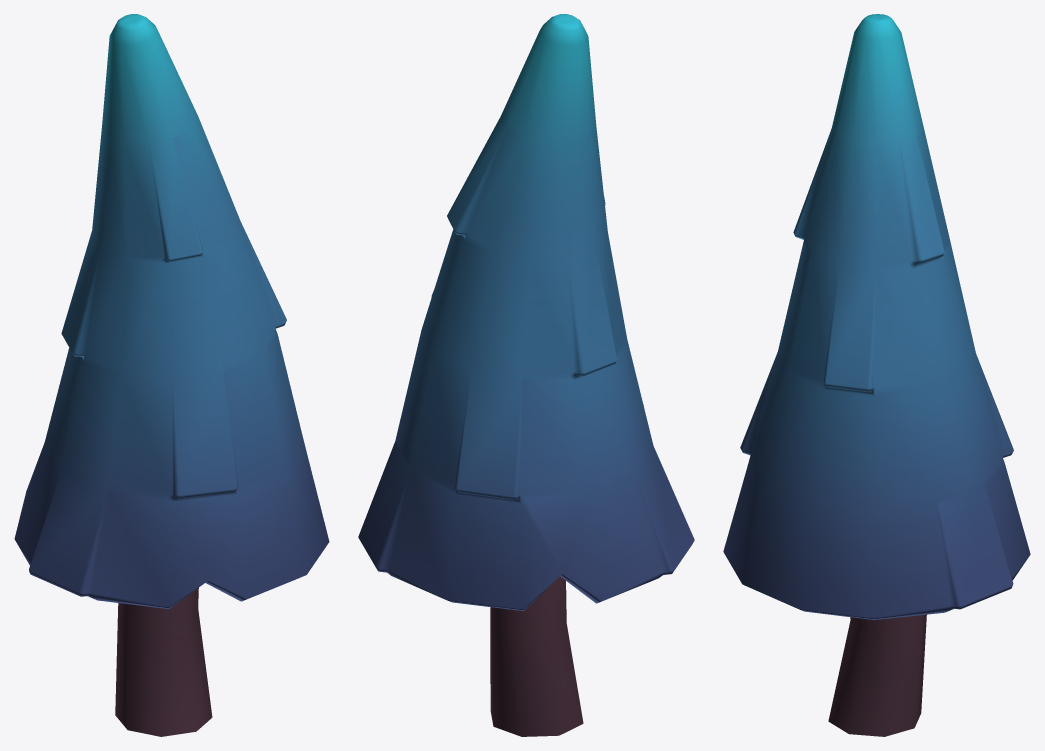
The model's file is tree_pack_08.glb.
The picture shows the model from 3 angles, left to right: view 1: azimuth 30°, elevation 25°; view 2: azimuth 150°, elevation 25°; view 3: azimuth 270°, elevation 25°; orthographic projection. The views are drawn at different scales.
Parts seen in each view (by area): view 1: Tree.008; view 2: Tree.008; view 3: Tree.008.
Part boxes in pixels (x1,y1,x2,y2): Tree.008: [14, 14, 329, 736]; Tree.008: [358, 14, 694, 736]; Tree.008: [723, 14, 1030, 736].
Size of the model in its own units: 2.22 by 5.3 by 2.15.
1 material, 1 textured.
